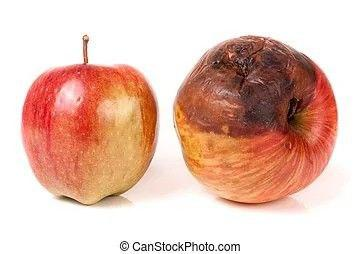Apple: (175, 35, 339, 206), (20, 65, 160, 206)
